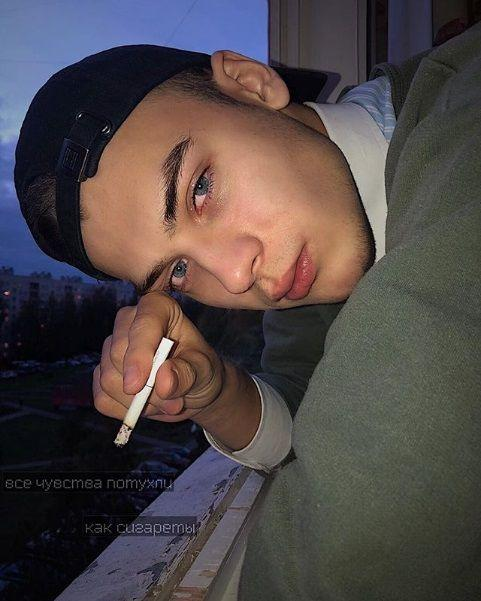cigarette: (114, 339, 174, 447)
